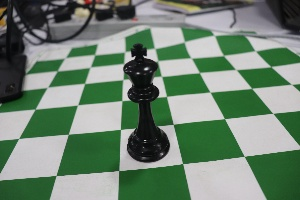black_king: (108, 27, 172, 169)
